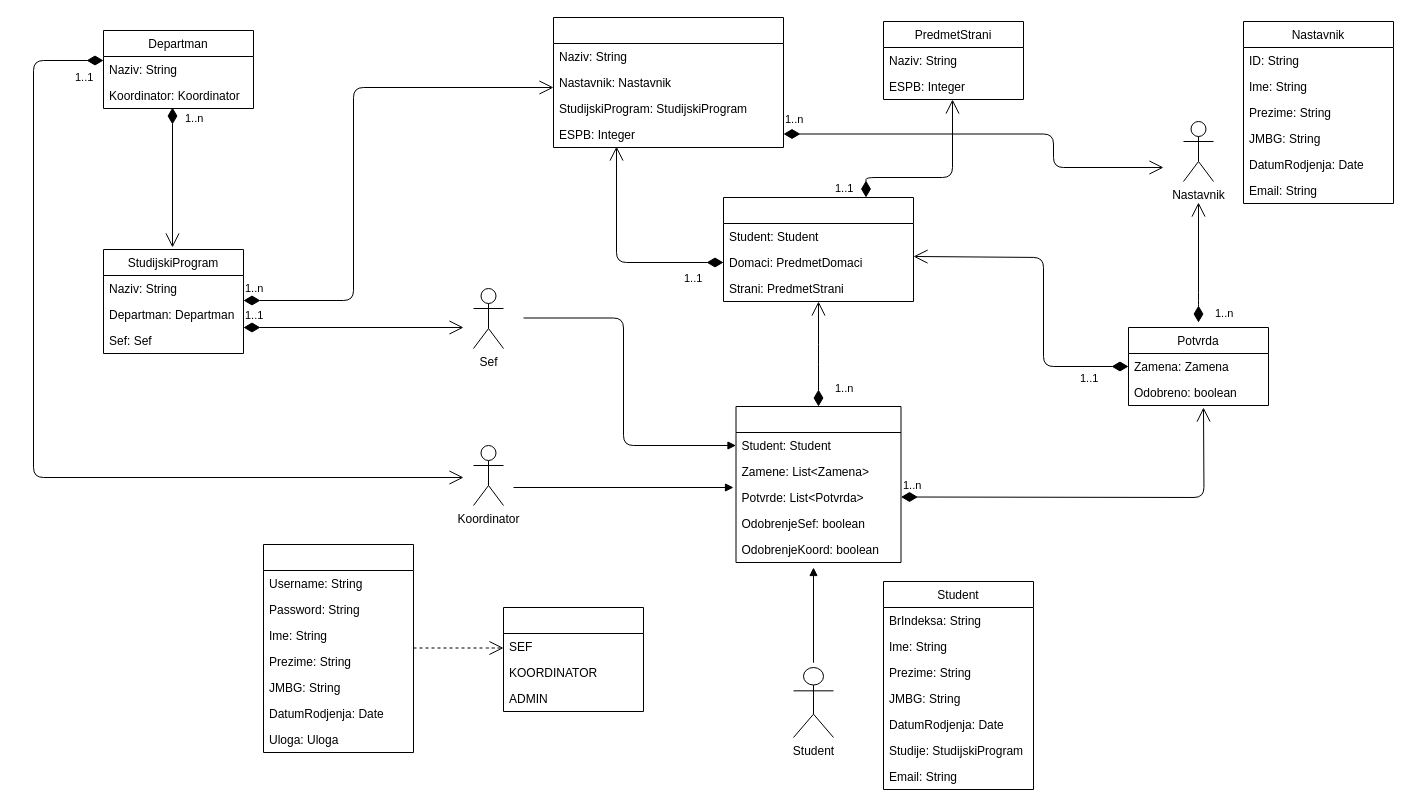
Image size: 1411x810. Some labels were removed from this diagram. The box of each missing label's shape, as (x1, y1, x2, y2) in pixels:
Formular: (735, 406, 901, 562)
Korisnik: (262, 544, 414, 752)
PredmetDomaci: (552, 16, 784, 148)
Uloga: (502, 606, 644, 712)
Zamena: (722, 196, 914, 302)
